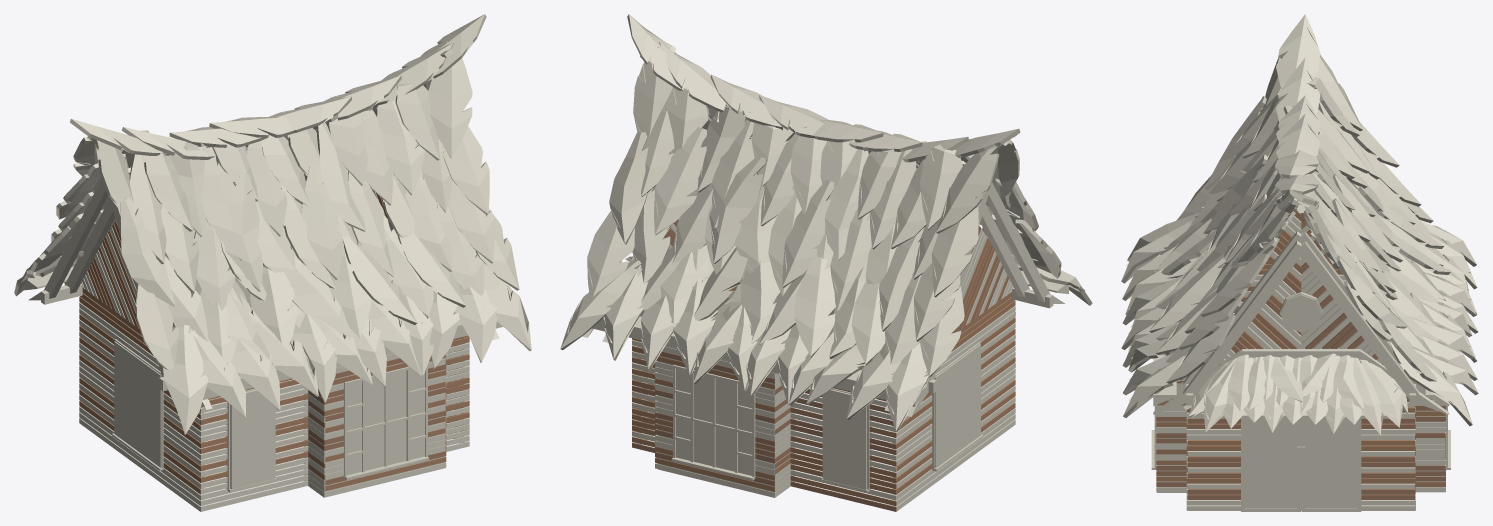
Rendered from beach_house.glb.
The picture shows the model from 3 angles, left to right: view 1: azimuth 30°, elevation 25°; view 2: azimuth 150°, elevation 25°; view 3: azimuth 270°, elevation 25°; orthographic projection. The views are drawn at different scales.
Parts seen in each view (by area): view 1: BeachHouse; view 2: BeachHouse; view 3: BeachHouse.
Boxes of the visible parts, x1,y1,x2,y2 form: BeachHouse: (14,14,531,511); BeachHouse: (560,14,1092,511); BeachHouse: (1121,14,1478,511).
Bounding box in the file's own units: 21.57 × 18.92 × 17.33.
